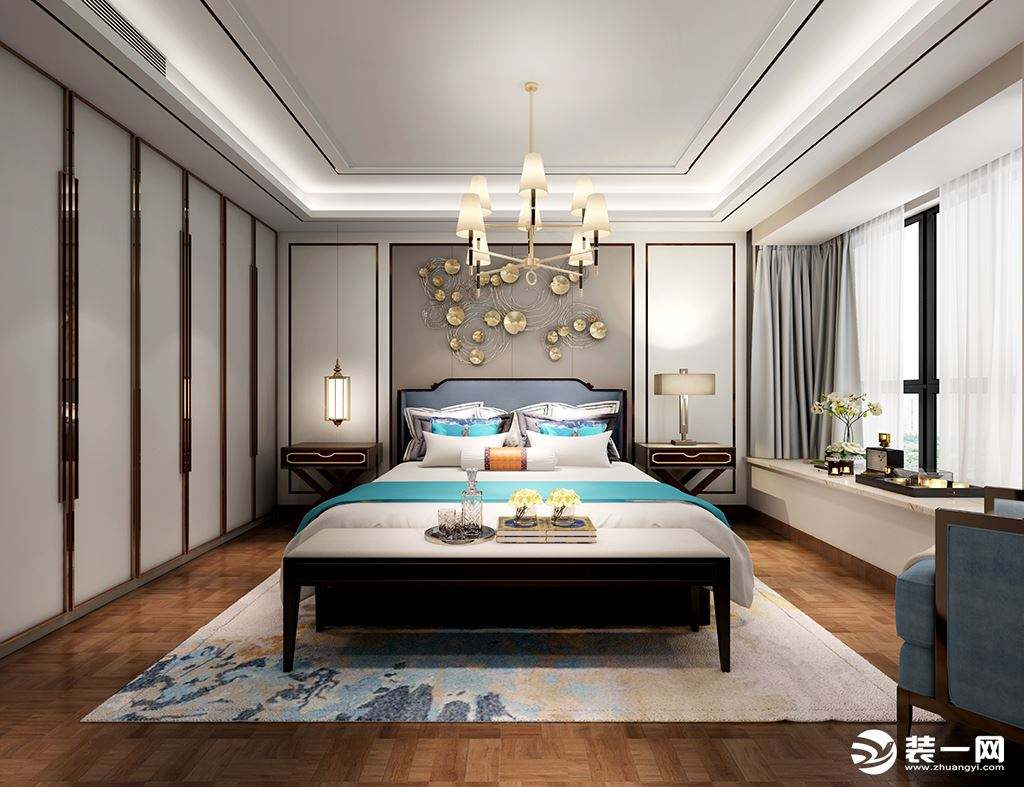床: (285, 463, 736, 668)
枕头: (408, 401, 613, 475)
灯: (458, 87, 601, 294), (652, 368, 718, 449), (321, 367, 352, 437)
